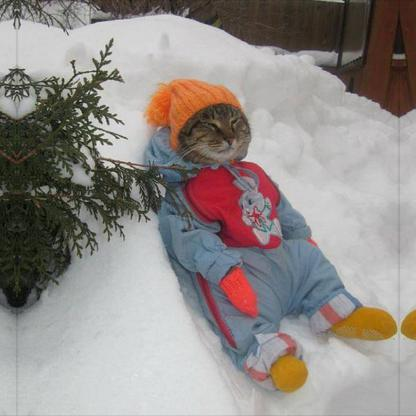Cat: (179, 104, 252, 162)
